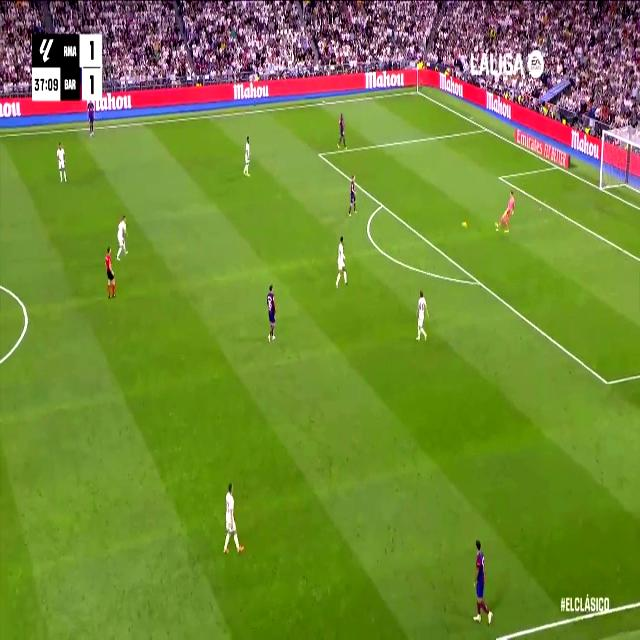bigarea_bottom_inner: (602, 369, 612, 395)
bigarea_top_inner: (316, 147, 322, 161)
bigarea_top_outter: (482, 121, 490, 134)
bottom_arc_area_intersection: (473, 272, 484, 291)
corner: (413, 85, 421, 96)
smallarea_top_inner: (497, 172, 502, 182)
top_arc_area_intersection: (378, 197, 386, 211)
